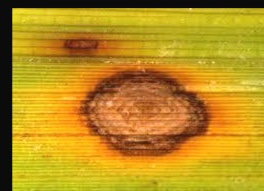Bacterial_Leaf_Blight: (35, 42, 250, 174), (43, 22, 117, 63)
